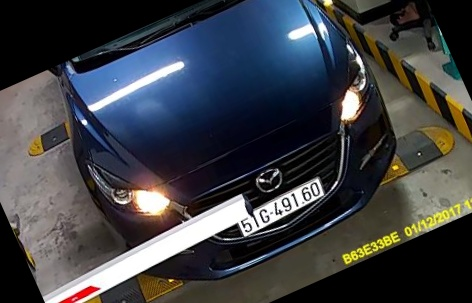plate: (225, 181, 330, 237)
